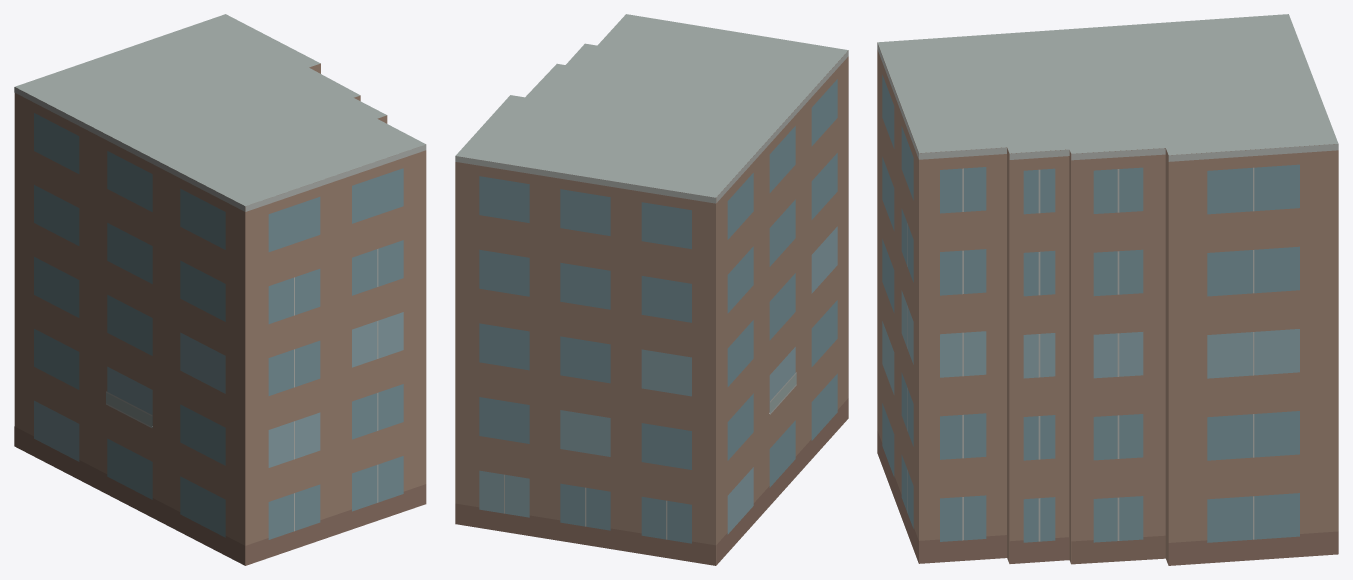
Rendered from survey-upis-32675681.glb.
The picture shows the model from 3 angles, left to right: view 1: azimuth 30°, elevation 25°; view 2: azimuth 150°, elevation 25°; view 3: azimuth 270°, elevation 25°; orthographic projection. The views are drawn at different scales.
Visible parts, largest first — view 1: survey-upis-32675681.tmp; view 2: survey-upis-32675681.tmp; view 3: survey-upis-32675681.tmp.
Boxes of the visible parts, x1,y1,x2,y2 form: survey-upis-32675681.tmp: (14,14,426,565); survey-upis-32675681.tmp: (455,14,848,565); survey-upis-32675681.tmp: (877,14,1338,565).
Size of the model in its own units: 11.27 by 15.25 by 15.54.
